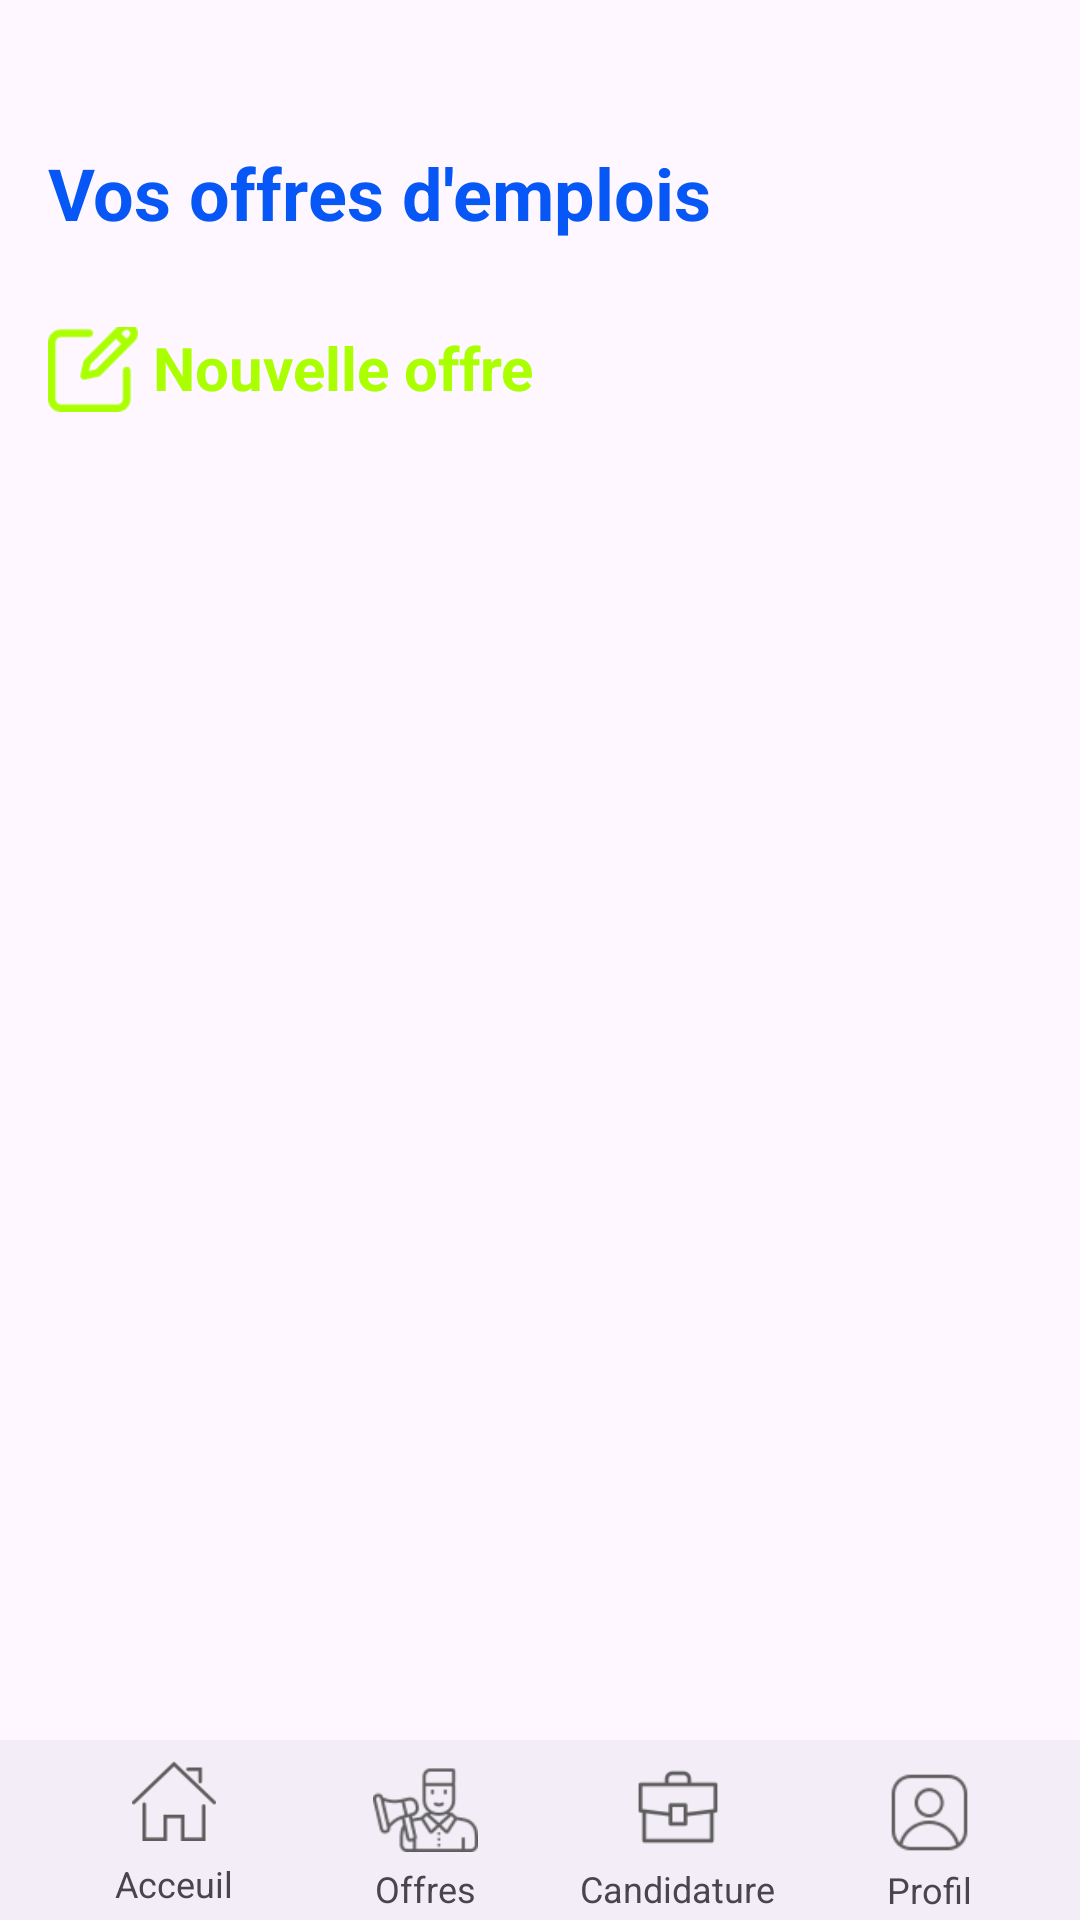

Where icons sit on this 1080*1920 app screen, as (x1, y1, x2, y2):
edit: (48, 327, 138, 412)
recruiter: (373, 1768, 478, 1852)
